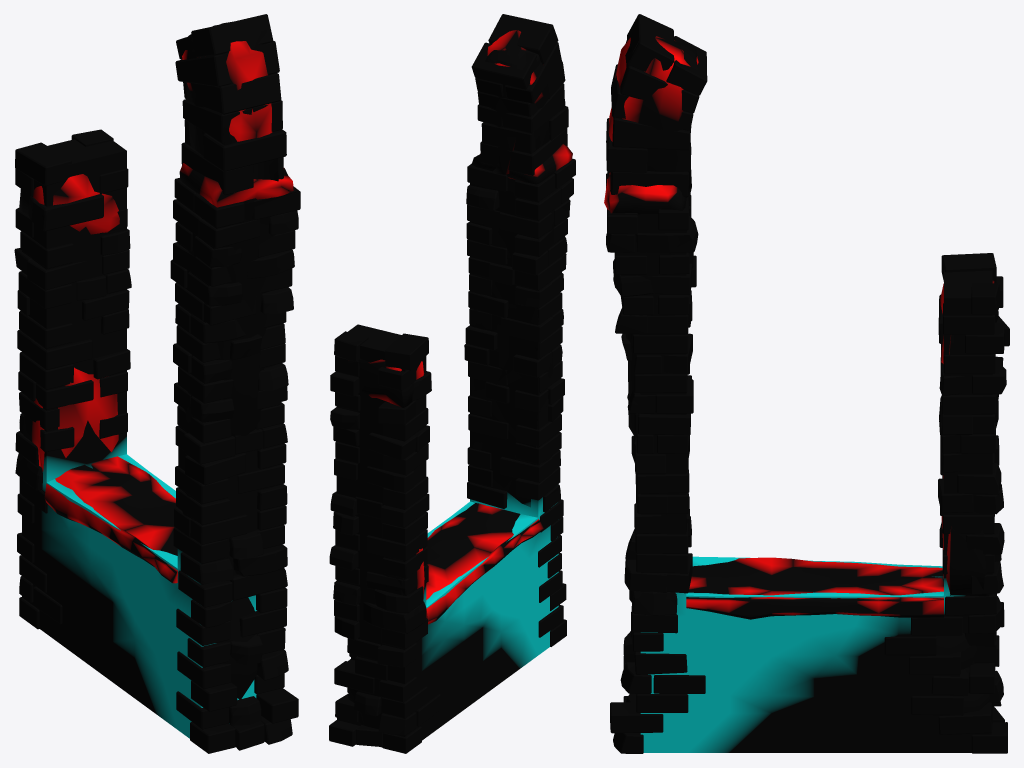
File: Fence4.fbx
The picture shows the model from 3 angles, left to right: view 1: azimuth 30°, elevation 25°; view 2: azimuth 150°, elevation 25°; view 3: azimuth 270°, elevation 25°; orthographic projection. The views are drawn at different scales.
Visible parts, largest first — view 1: SM_Ind_WL_Br_2mVault01.mo; view 2: SM_Ind_WL_Br_2mVault01.mo; view 3: SM_Ind_WL_Br_2mVault01.mo.
Boxes of the visible parts, box(x1,y1,x2,y2) form: SM_Ind_WL_Br_2mVault01.mo: box(14, 14, 300, 753); SM_Ind_WL_Br_2mVault01.mo: box(329, 14, 575, 753); SM_Ind_WL_Br_2mVault01.mo: box(604, 14, 1009, 753).
Size of the model in its own units: 61.76 by 447 by 233.
